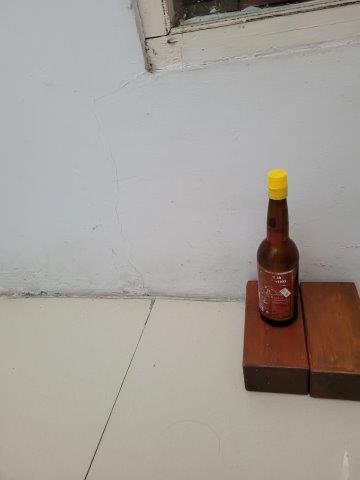botolkaca: (257, 169, 299, 325)
